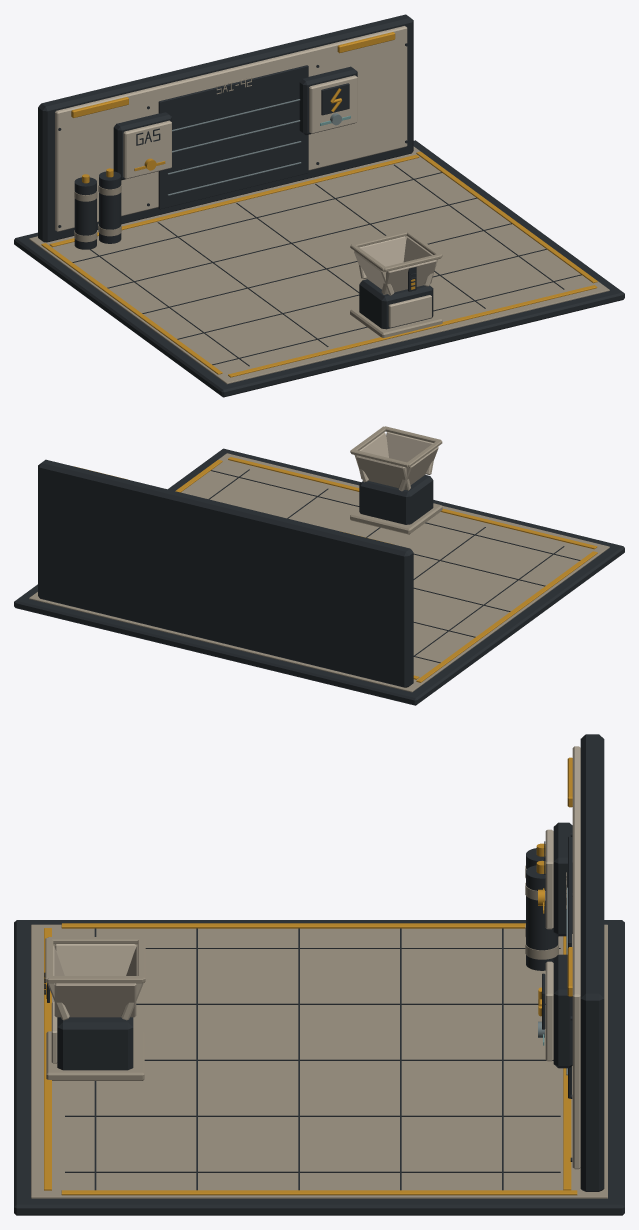
Rendered from sai93_bay_d0_lod0.glb.
3 views of the same model, one above another, from view 1: azimuth 30°, elevation 25°; view 2: azimuth 150°, elevation 25°; view 3: azimuth 270°, elevation 25° (orthographic). The views are drawn at different scales.
Visible parts, largest first — view 1: BAY_SURFACE, ORE_RECEIVER_SURFACE; view 2: BAY_SURFACE, ORE_RECEIVER_SURFACE; view 3: BAY_SURFACE, ORE_RECEIVER_SURFACE.
Part boxes in pixels (bbox=[...]): BAY_SURFACE: bbox=[14, 14, 624, 397]; ORE_RECEIVER_SURFACE: bbox=[350, 230, 442, 337]; BAY_SURFACE: bbox=[14, 448, 624, 705]; ORE_RECEIVER_SURFACE: bbox=[350, 426, 442, 534]; BAY_SURFACE: bbox=[14, 734, 624, 1215]; ORE_RECEIVER_SURFACE: bbox=[45, 937, 145, 1080].
Bounding box in the file's own units: 10 × 3.4 × 9.
